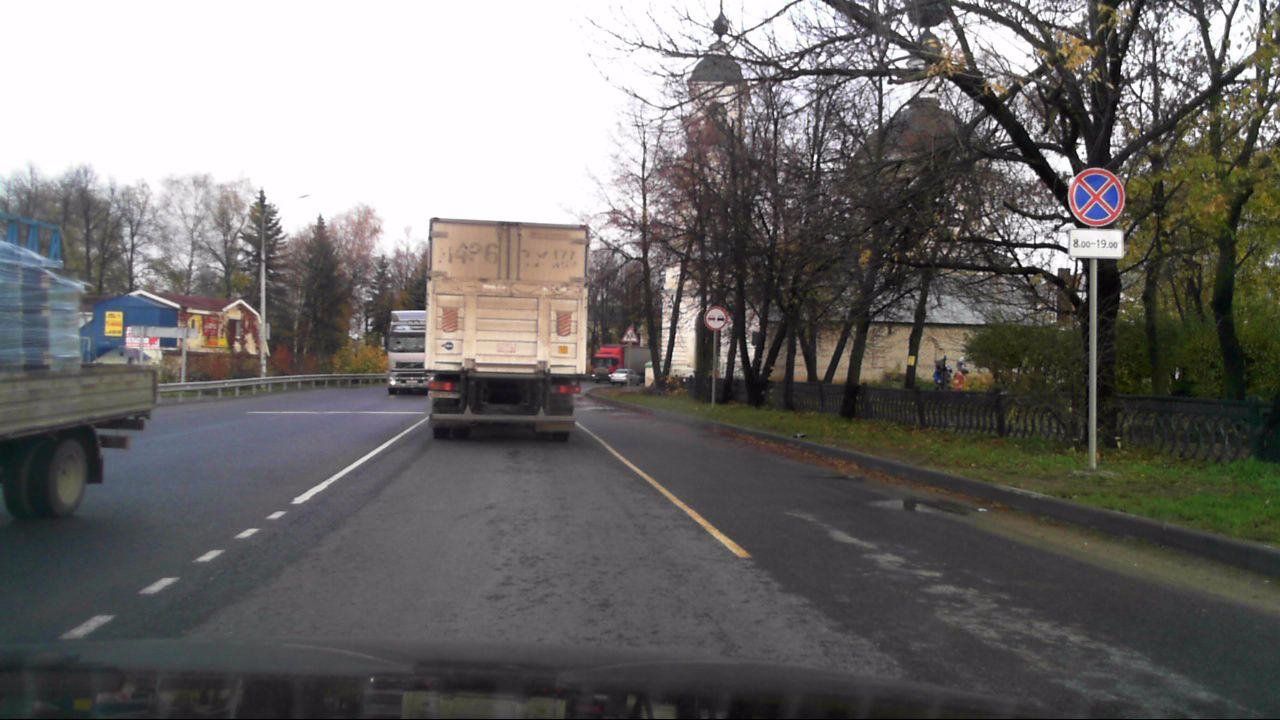No Parking: (1066, 167, 1125, 229)
